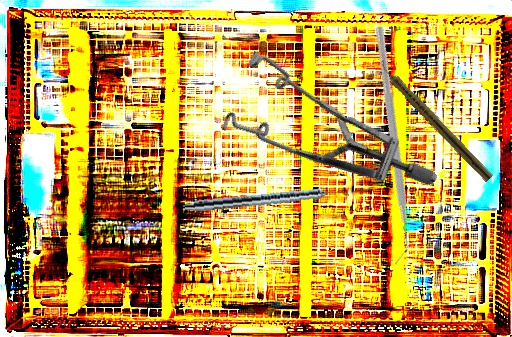Chopper: (269, 23, 506, 268)
Handpiece: (375, 58, 496, 183), (182, 184, 350, 217)
Speculum: (197, 4, 439, 262)
